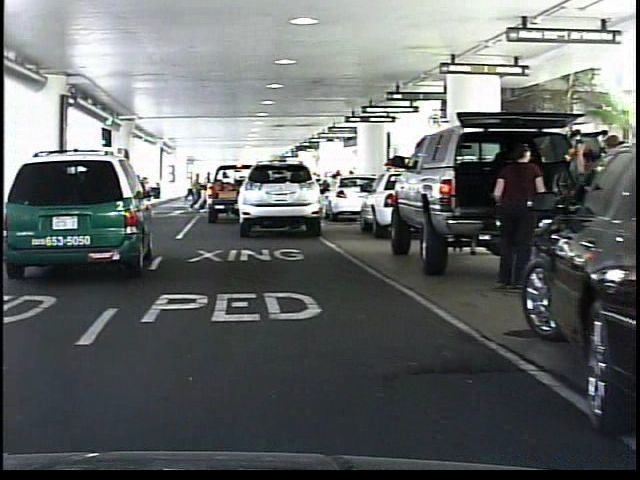person: (481, 139, 545, 288)
